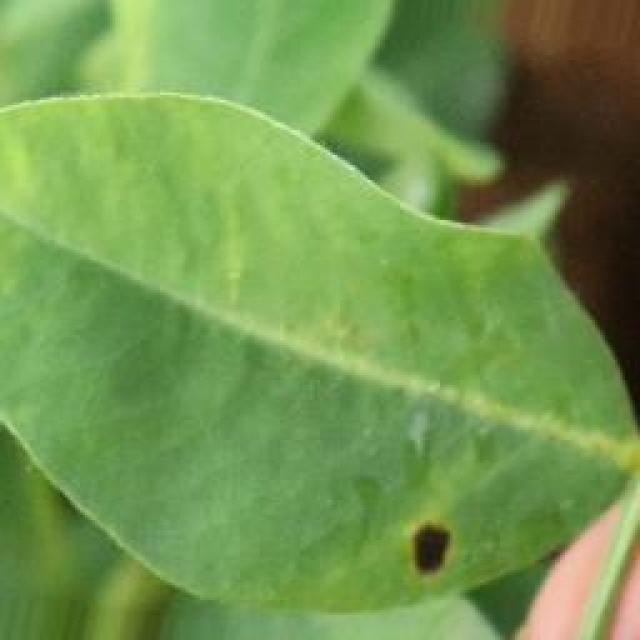Sigatoka: (370, 499, 470, 599)
